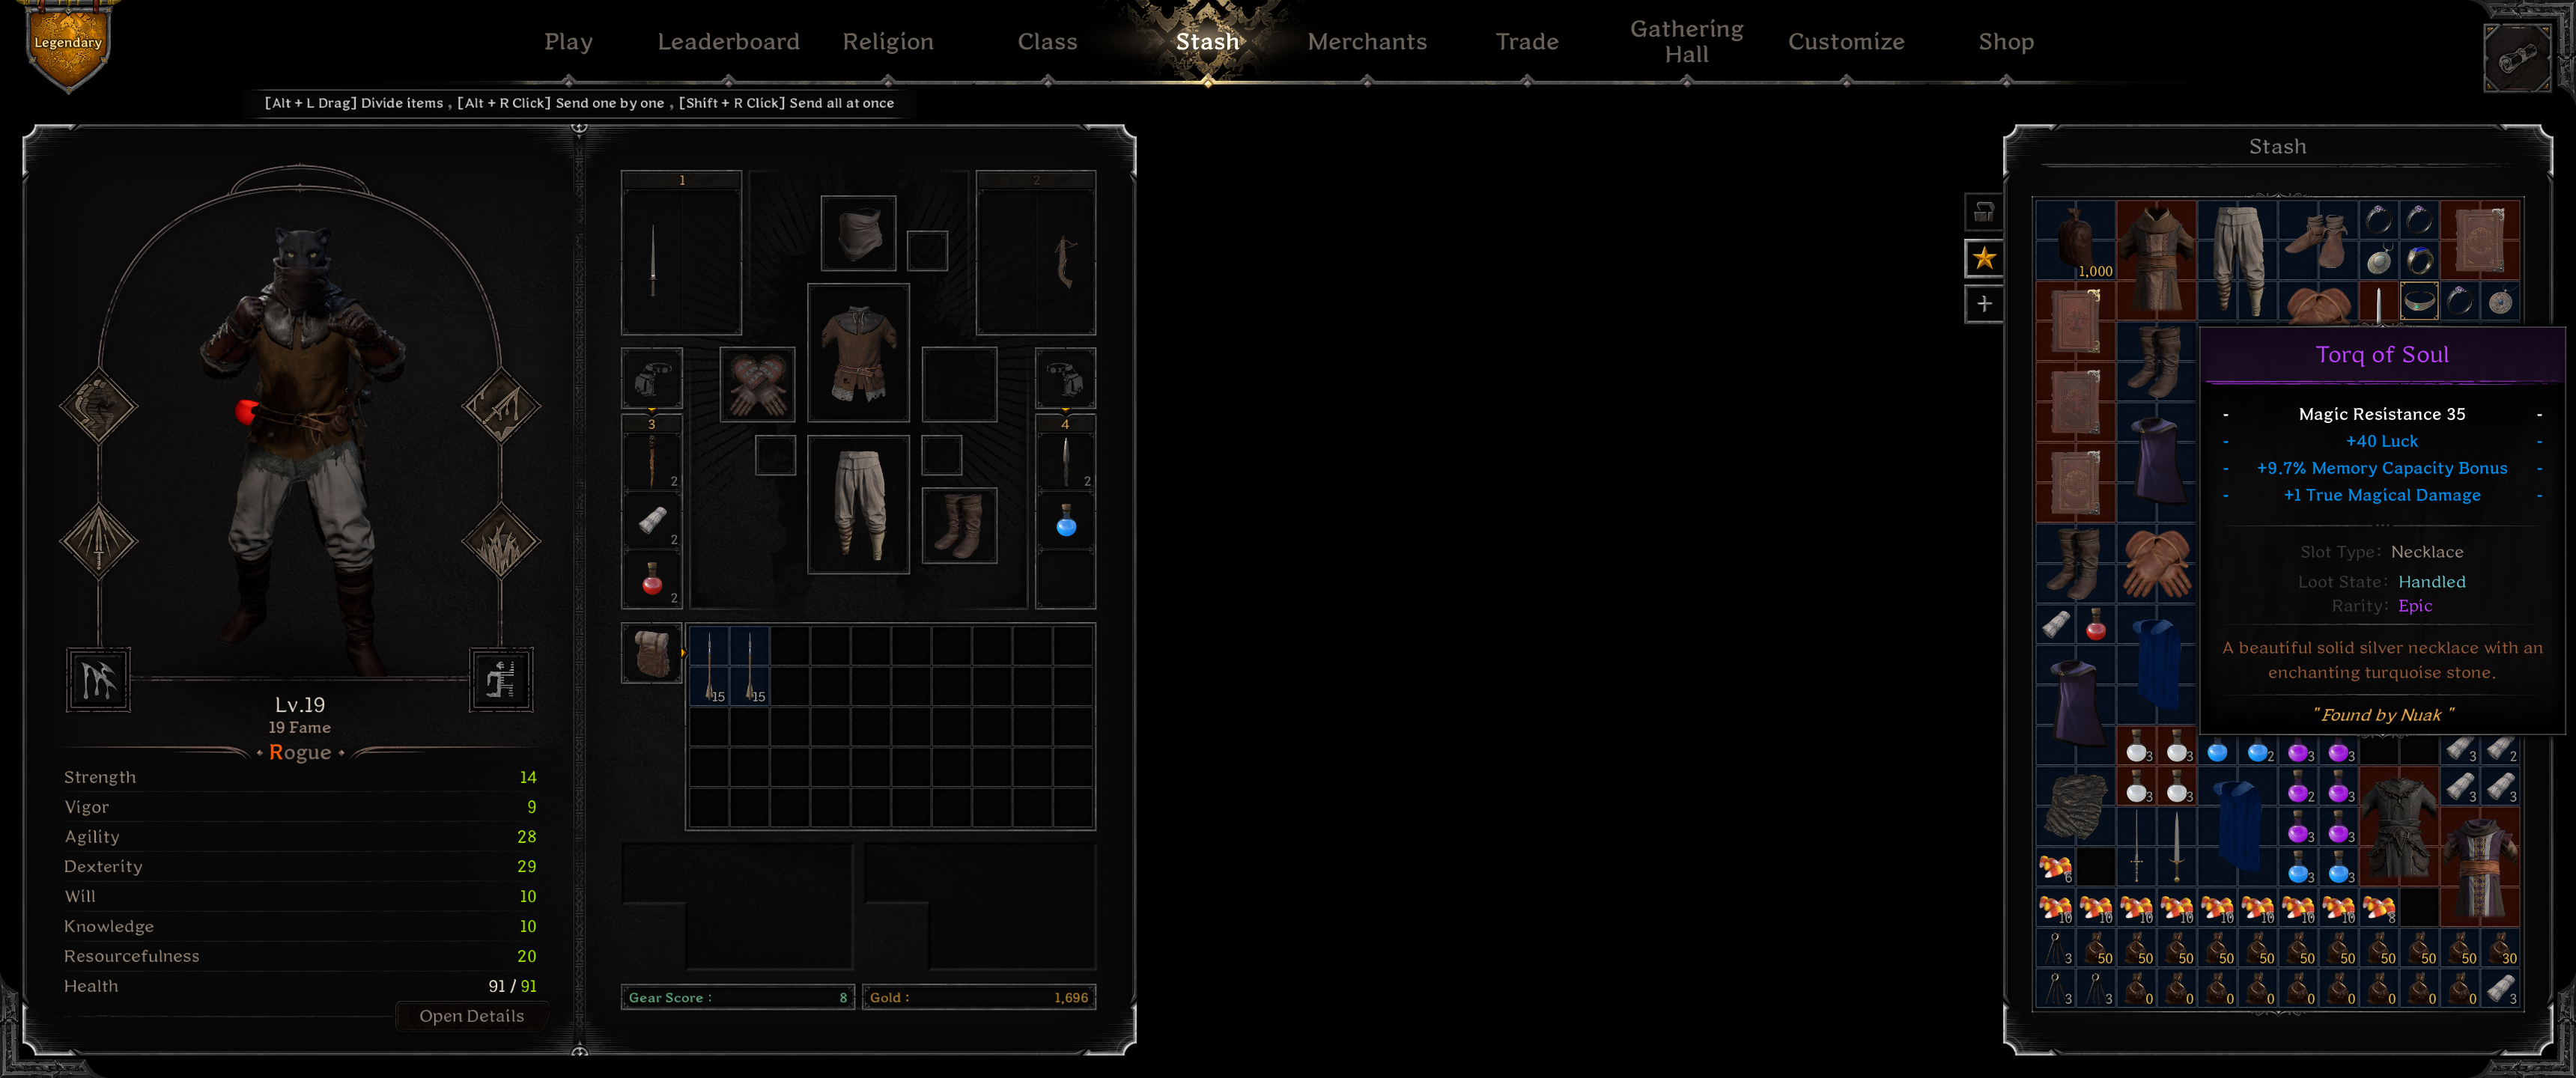Tooltip: (2198, 325, 2568, 736)
